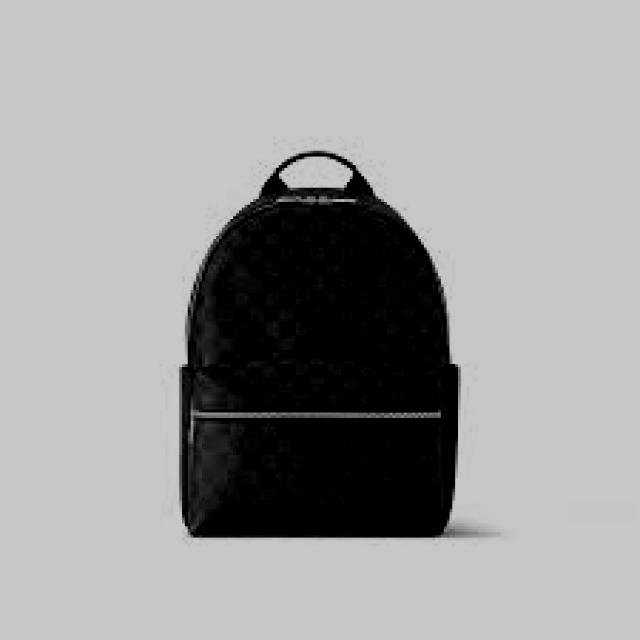backpack: (177, 149, 459, 539)
